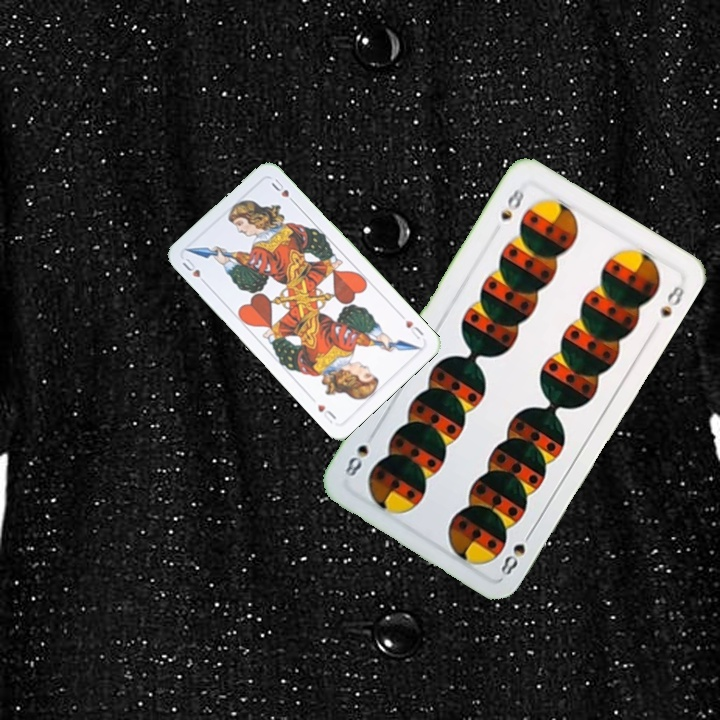HU: (178, 253, 210, 288), (401, 316, 426, 342)
S8: (496, 525, 536, 579), (496, 180, 527, 223)
